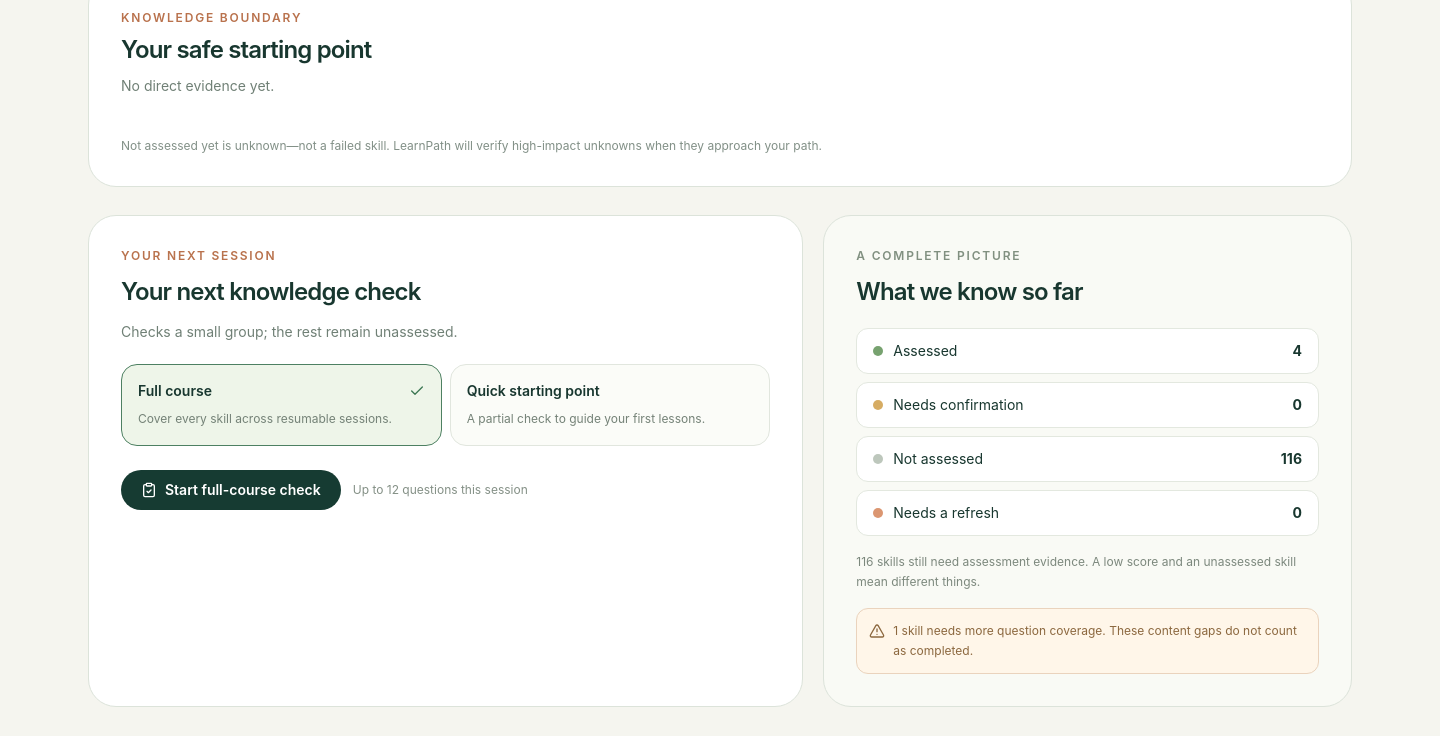
Test: course-wide knowledge check flow › labels quick placement as partial and exposes server failures without inventing progress
This screenshot has width=1440, height=736.
(page scrolled)
What coordinates should you click on to do the following:
click the button "Quick starting point"
I would click on:
 (533, 390)
Its box is top-left (450, 364), bottom-right (770, 446).
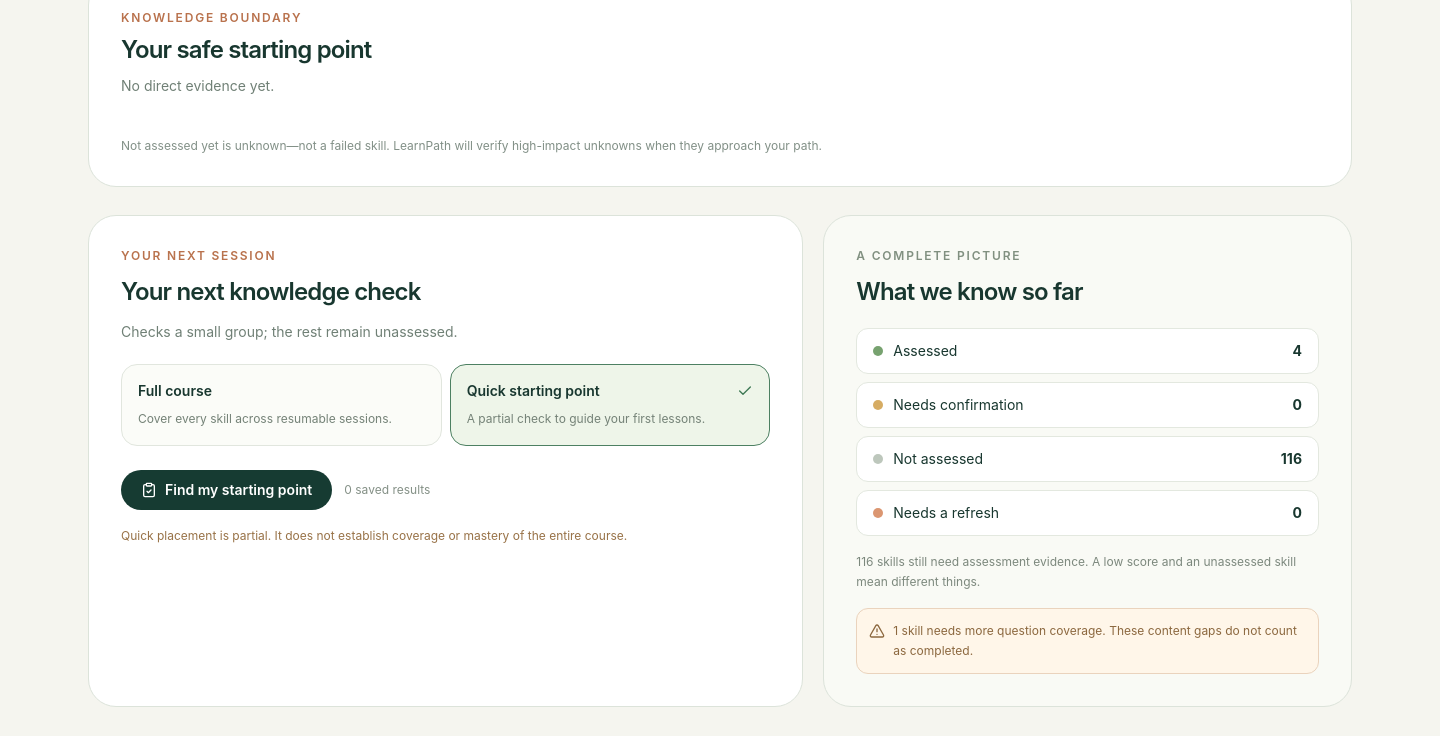
Expected: the text "Quick placement is partial" is shown, top-left (121, 528), bottom-right (627, 543)
What coordinates should you click on to do the following:
click the button "Find my starting point"
I would click on:
 (227, 490)
Its box is top-left (121, 470), bottom-right (332, 510).
(page scrolled)
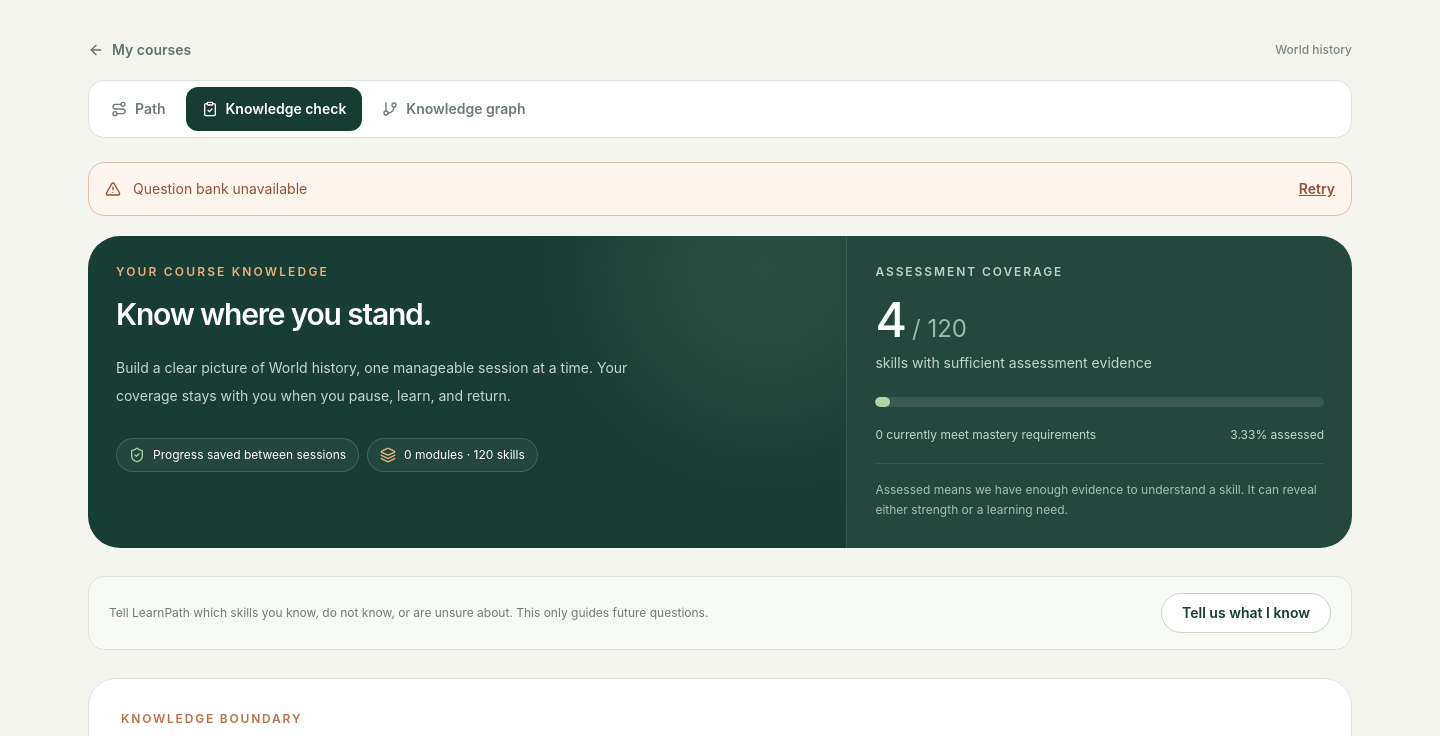
Expected: the element named "4 of 120 skills assessed" is shown, top-left (875, 397), bottom-right (1324, 407)
Expected: the message shows "Question bank unavailable", top-left (133, 180), bottom-right (307, 197)
